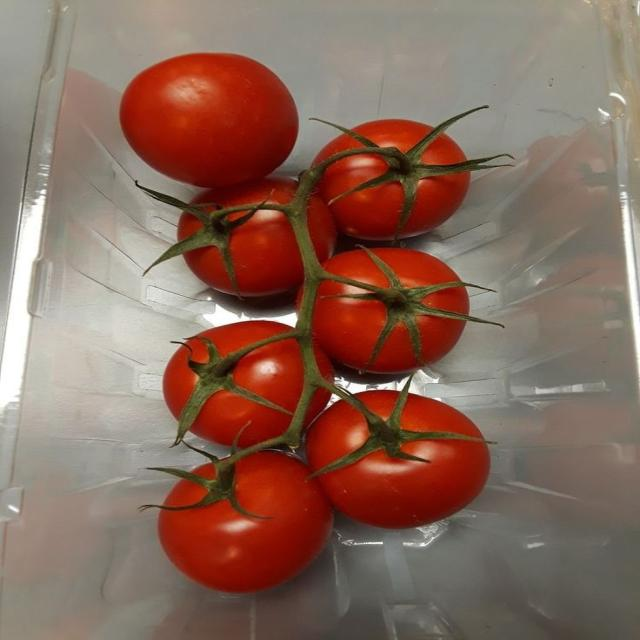tomato: (159, 451, 332, 592), (120, 53, 298, 187), (318, 439, 489, 528), (314, 280, 464, 373), (163, 321, 291, 418), (185, 210, 303, 296), (330, 183, 404, 240)
